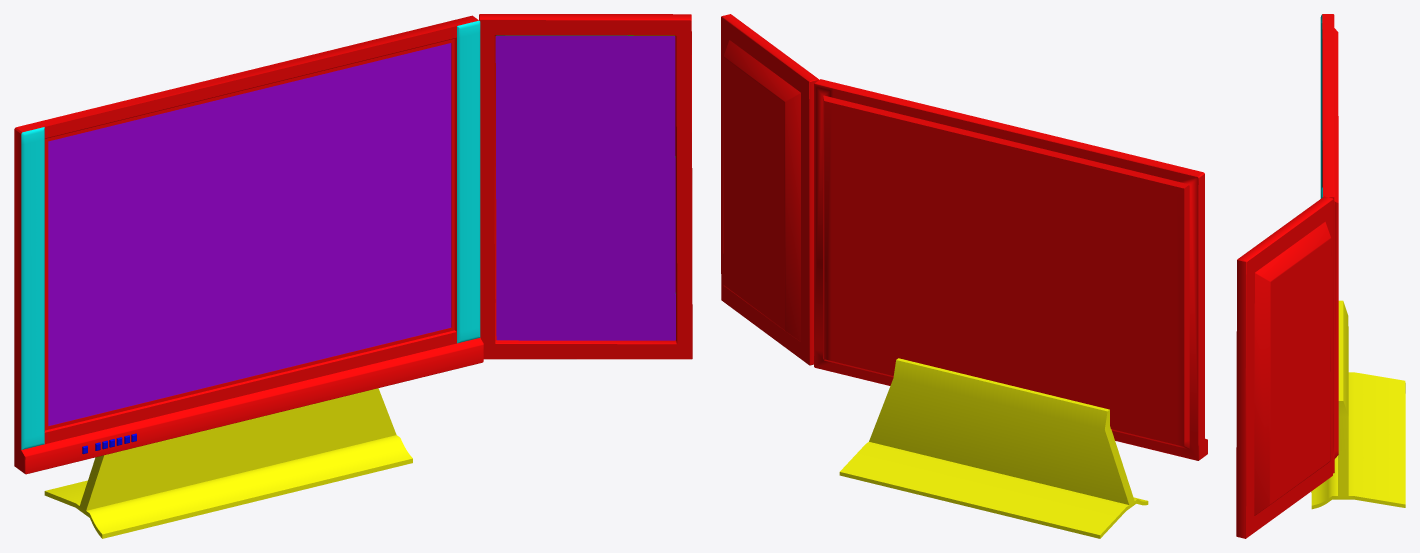
Rendered from desktops_grp.fbx.
3 views of the same model, side by side, from view 1: azimuth 30°, elevation 25°; view 2: azimuth 150°, elevation 25°; view 3: azimuth 270°, elevation 25° (orthographic). The views are drawn at different scales.
Parts seen in each view (by area): view 1: desktop_1; view 2: desktop_1; view 3: desktop_1.
Boxes of the visible parts, x1,y1,x2,y2 form: desktop_1: (14, 14, 692, 538); desktop_1: (721, 14, 1207, 538); desktop_1: (1236, 14, 1405, 538).
Bounding box in the file's own units: 86.85 × 55.83 × 25.02.
